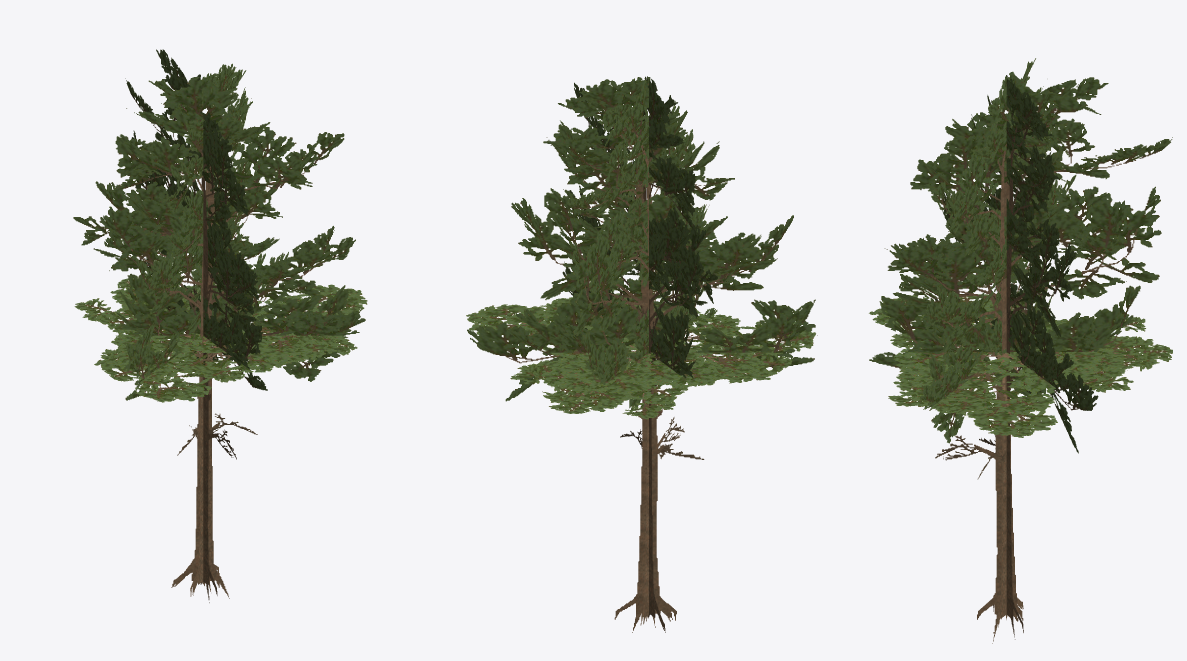
3 views of the same model, side by side, from view 1: azimuth 30°, elevation 25°; view 2: azimuth 150°, elevation 25°; view 3: azimuth 270°, elevation 25° (orthographic). The views are drawn at different scales.
Visible parts, largest first — view 1: Pine_big_2_Billboard_LOD3_Pine_big_2_Billboard_Mat_0; view 2: Pine_big_2_Billboard_LOD3_Pine_big_2_Billboard_Mat_0; view 3: Pine_big_2_Billboard_LOD3_Pine_big_2_Billboard_Mat_0.
Part boxes in pixels (x1,y1,x2,y2): Pine_big_2_Billboard_LOD3_Pine_big_2_Billboard_Mat_0: [73, 49, 367, 602]; Pine_big_2_Billboard_LOD3_Pine_big_2_Billboard_Mat_0: [466, 76, 817, 632]; Pine_big_2_Billboard_LOD3_Pine_big_2_Billboard_Mat_0: [869, 58, 1172, 643].
Size of the model in its own units: 9.13 by 16.03 by 7.97.
